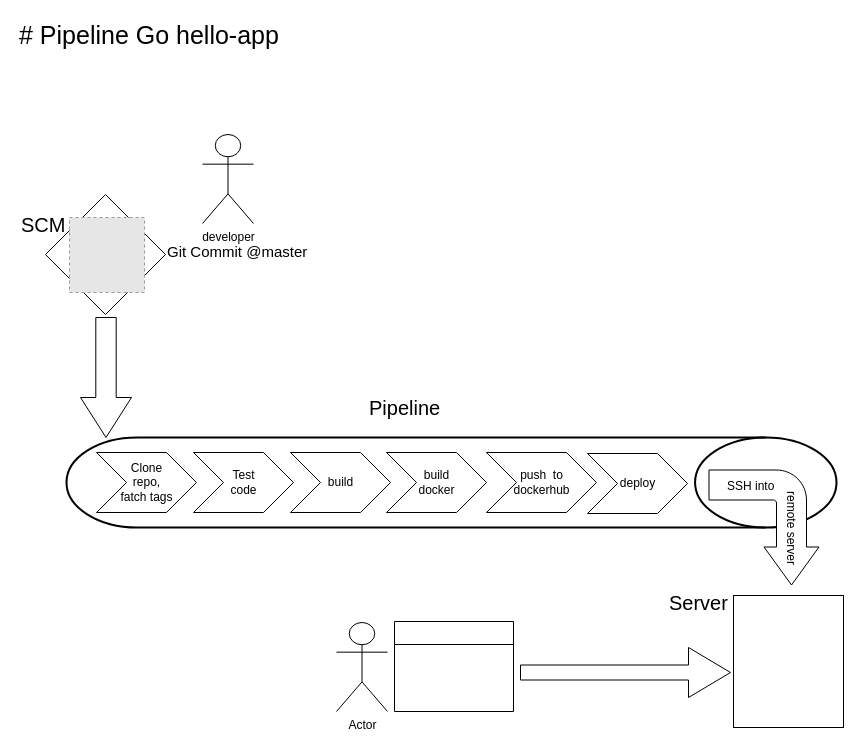
The diagram is 861 pixels wide and 749 high, and some of its shapes have lost their labels. Grey dashed boxes stand in for pictures. The centre of each missing label's shape, as x and y in pixels:
hello.service.io: point 454,666
pull the latest image run it with docker-compose: point 788,661
scm-ci/cd integration: point 106,377
